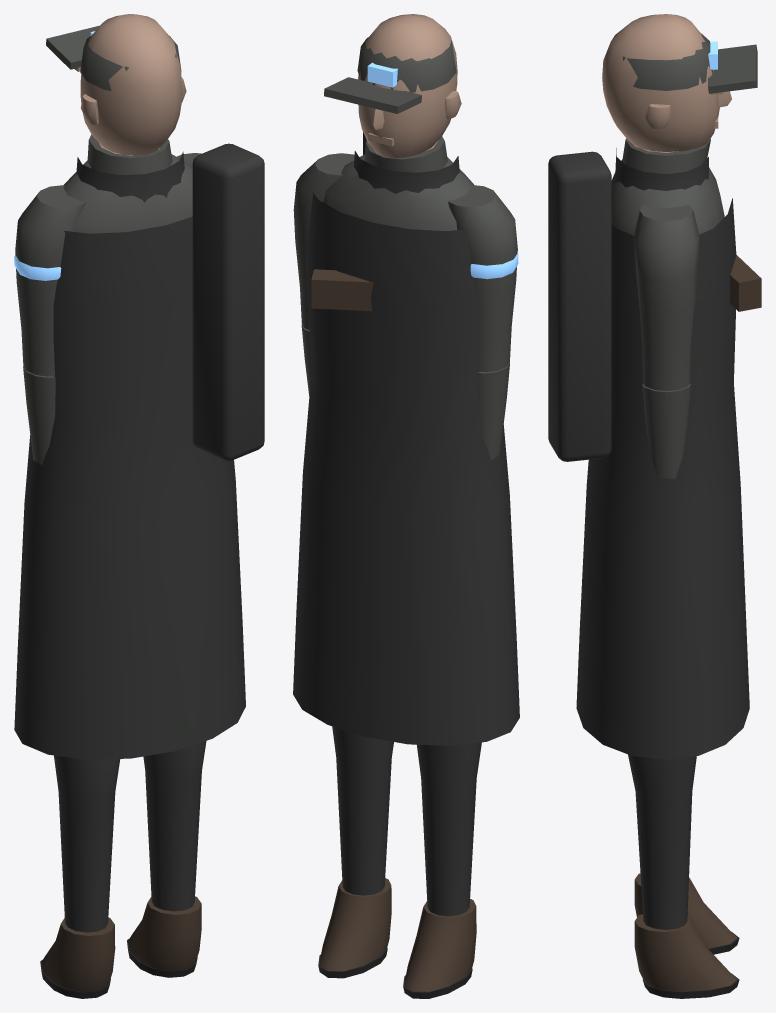
File: char_spectre.glb
3 renders of one model, left to right at view 1: azimuth 30°, elevation 25°; view 2: azimuth 150°, elevation 25°; view 3: azimuth 270°, elevation 25°, orthographic. The views are drawn at different scales.
Visible parts, largest first — view 1: char_spectre; view 2: char_spectre; view 3: char_spectre.
Part boxes in pixels (bbox=[...]): char_spectre: bbox=[14, 14, 264, 998]; char_spectre: bbox=[293, 14, 519, 998]; char_spectre: bbox=[548, 14, 761, 998].
Size of what is drawn, in the model's own units: 0.441 by 1.83 by 0.3744.
